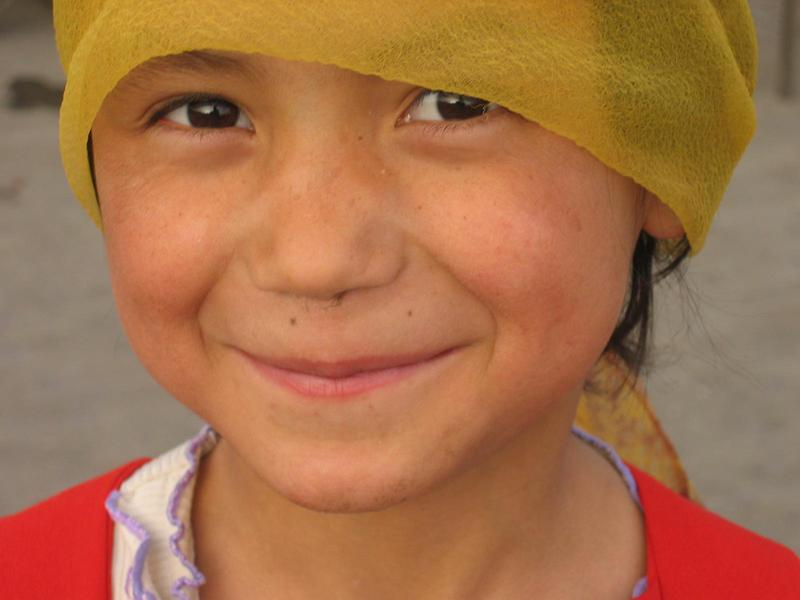person: (1, 1, 800, 600)
